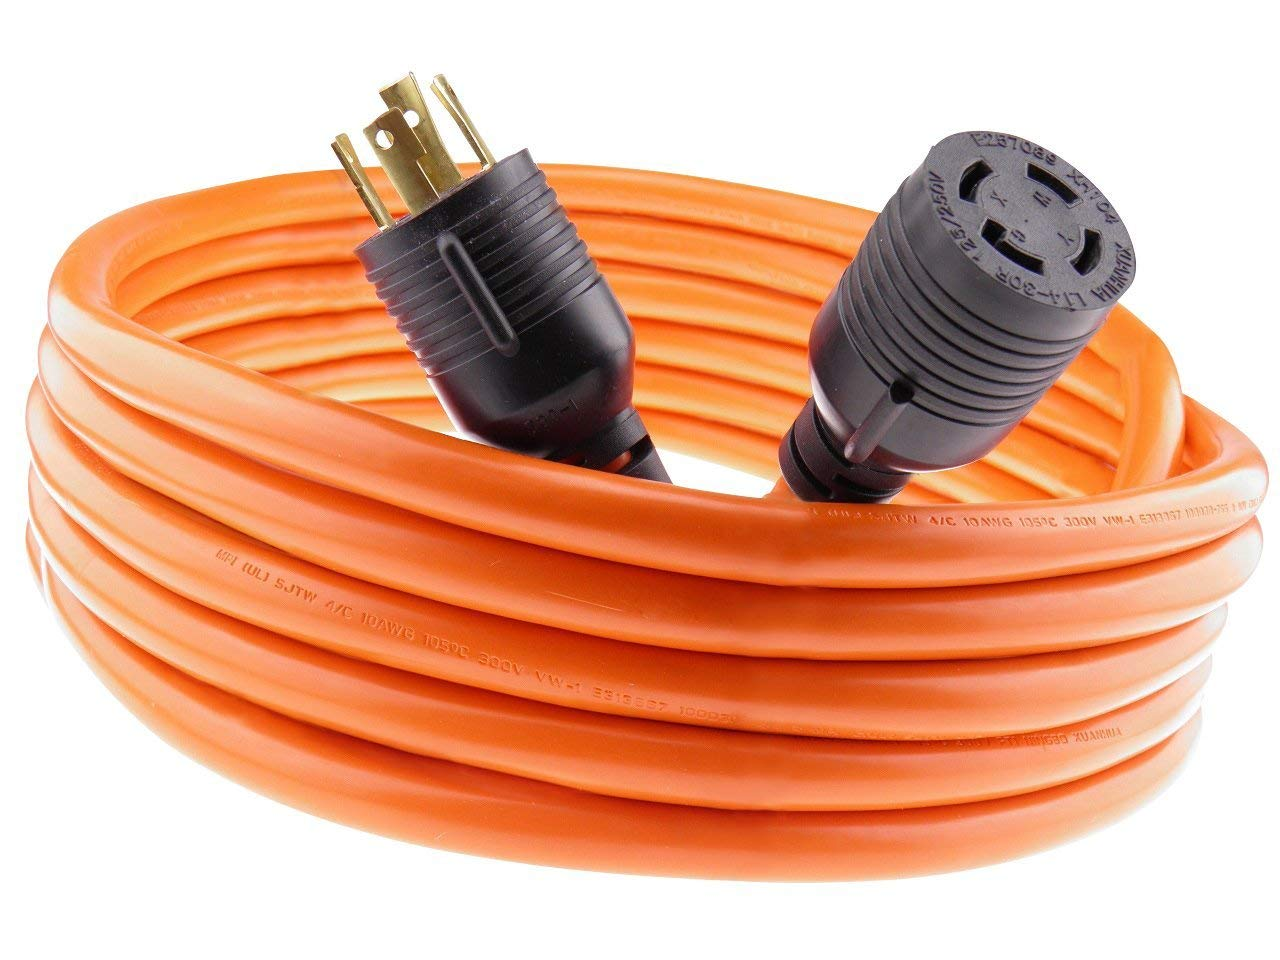Nonrec_Tangler: (7, 65, 1250, 880)
